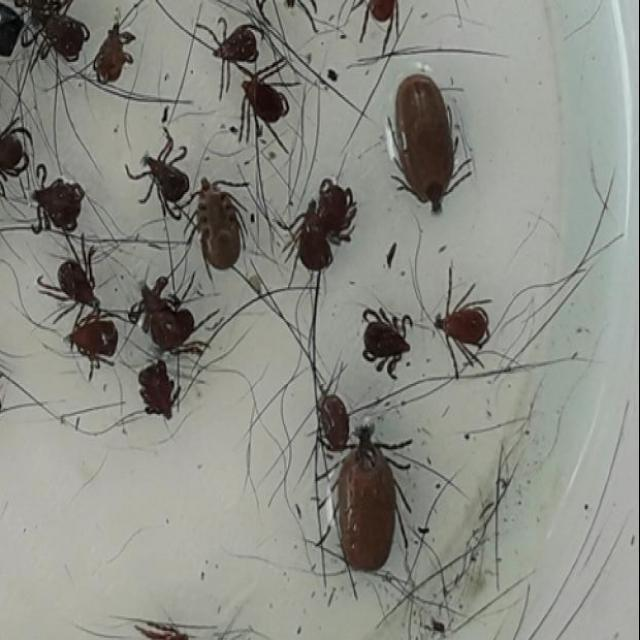Rhipicephalus Sanguineus-F-Fed: (388, 72, 474, 217)
Rhipicephalus Sanguineus-M: (436, 264, 494, 381)
